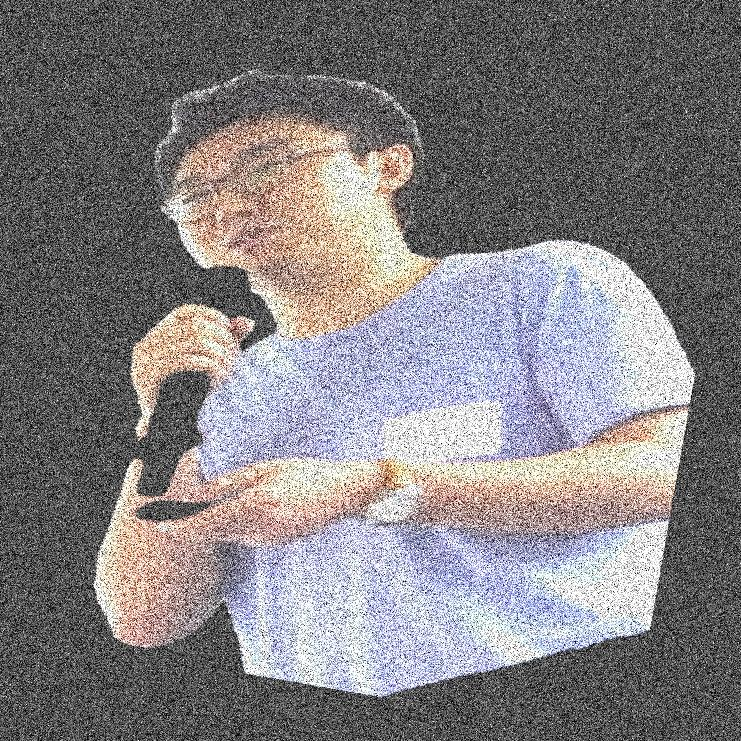Pessoa: (229, 0, 531, 740)
